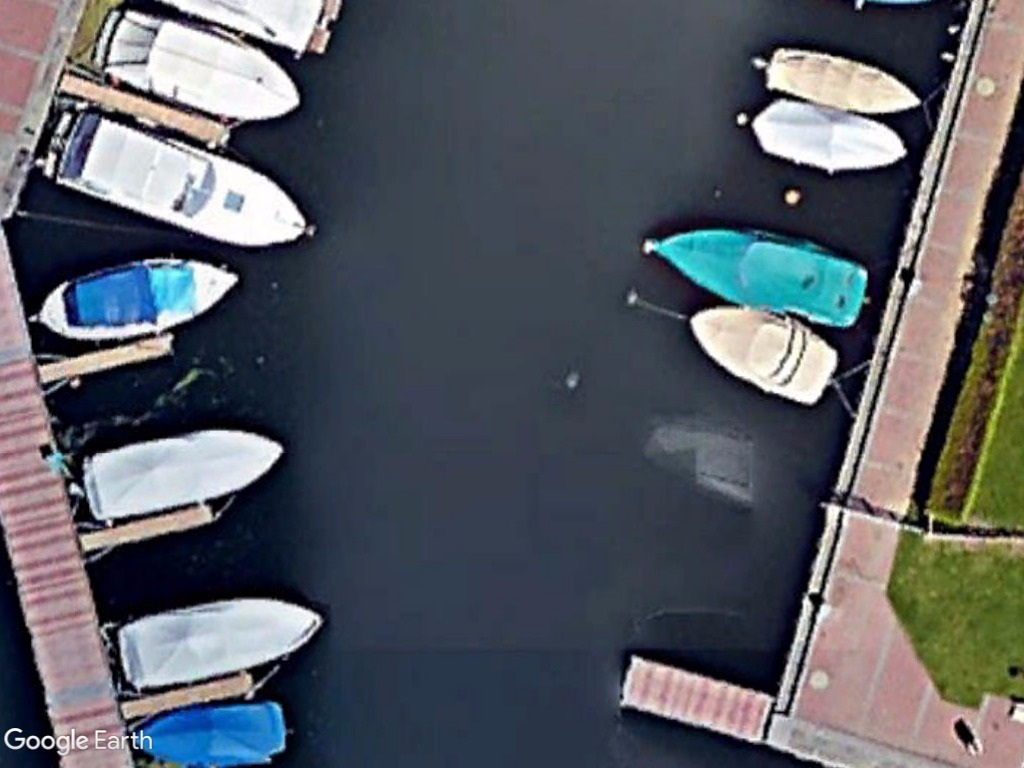boat: (43, 107, 313, 255), (88, 4, 304, 123), (654, 218, 870, 334), (79, 421, 288, 528), (116, 594, 326, 691), (36, 253, 237, 350), (680, 302, 847, 408), (741, 94, 912, 178), (757, 43, 925, 115)
